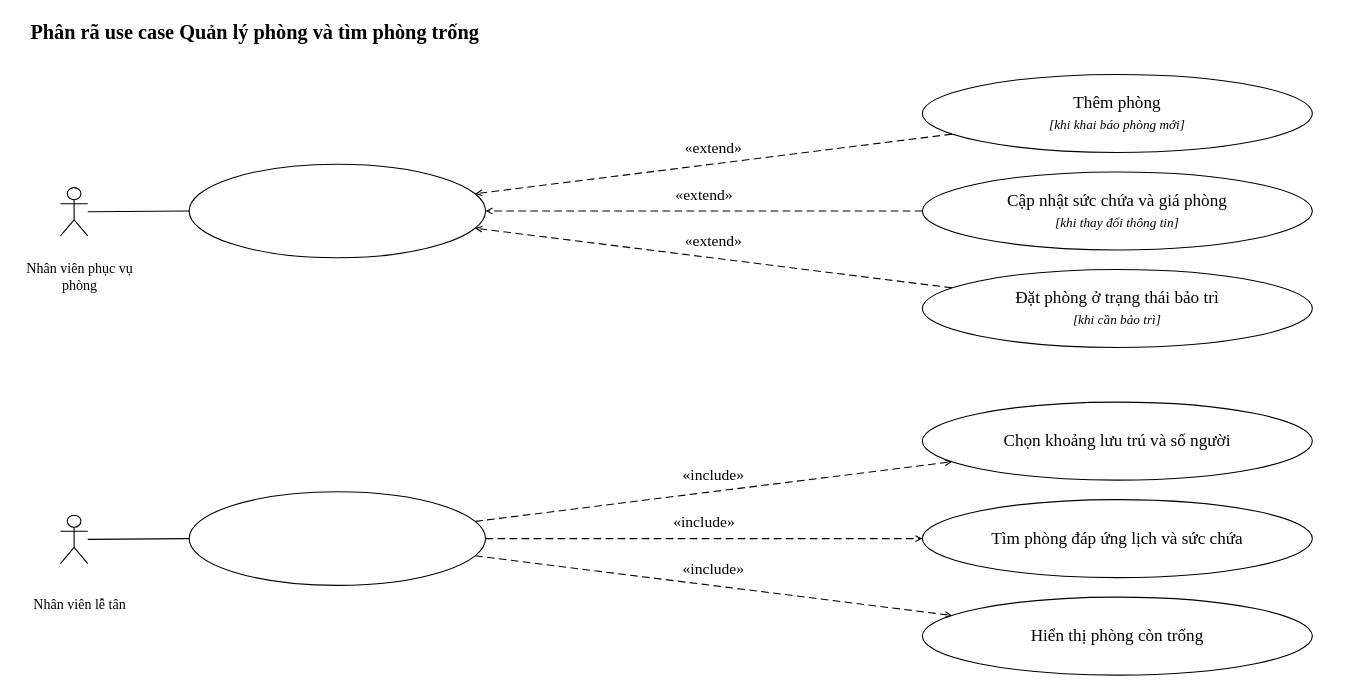
Image size: 1360x689. Some labels were removed from this diagram. Here are the shapes that lost their labels. From the top down, the box of each, then its label:
(188, 163, 486, 258): UC03 Quản lý phòng
(188, 491, 486, 586): UC07 Tra cứu phòng trống
